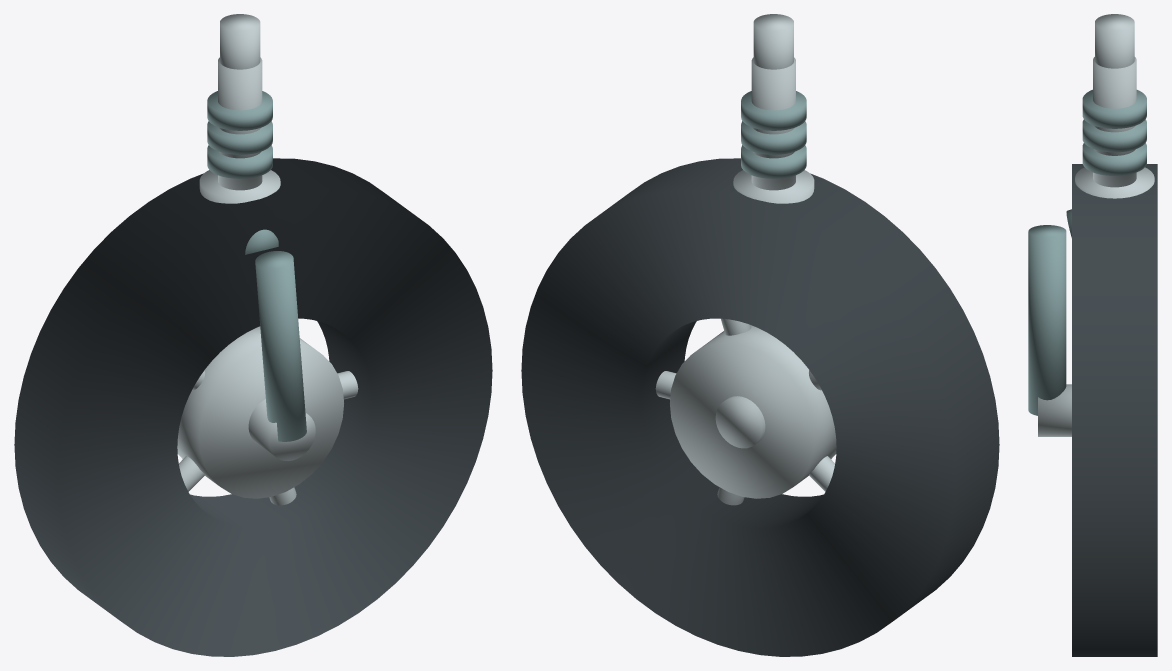
File: wheel-front-right-l.glb
3 renders of one model, left to right at view 1: azimuth 30°, elevation 25°; view 2: azimuth 150°, elevation 25°; view 3: azimuth 270°, elevation 25°, orthographic.
Parts seen in each view (by area): view 1: FR_tire.008, FR_sealed_hub.008, FR_fork.008, vertical_front_guide_1.008, vertical_front_spigot_1.008, FR_captive_axle.008, front_light_elastomer_1_2.008, FR_steering_bearing.008, front_light_elastomer_1_0.008, front_light_elastomer_1_1.008; view 2: FR_tire.008, FR_sealed_hub.008, vertical_front_guide_1.008, vertical_front_spigot_1.008, FR_captive_axle.008, front_light_elastomer_1_2.008, FR_steering_bearing.008, front_light_elastomer_1_0.008, front_light_elastomer_1_1.008; view 3: FR_tire.008, FR_fork.008, vertical_front_guide_1.008, vertical_front_spigot_1.008, front_light_elastomer_1_2.008, front_light_elastomer_1_1.008, front_light_elastomer_1_0.008, FR_captive_axle.008, FR_steering_bearing.008.
Part boxes in pixels (<box>): FR_tire.008: <box>14,158,492,656</box>; FR_sealed_hub.008: <box>177,326,343,498</box>; FR_fork.008: <box>255,251,306,441</box>; vertical_front_guide_1.008: <box>218,57,262,190</box>; vertical_front_spigot_1.008: <box>220,14,260,69</box>; FR_captive_axle.008: <box>248,399,315,460</box>; front_light_elastomer_1_2.008: <box>207,91,272,130</box>; FR_steering_bearing.008: <box>199,170,280,203</box>; front_light_elastomer_1_0.008: <box>207,145,272,178</box>; front_light_elastomer_1_1.008: <box>207,121,272,154</box>; FR_tire.008: <box>521,158,999,656</box>; FR_sealed_hub.008: <box>670,325,836,498</box>; vertical_front_guide_1.008: <box>751,57,795,190</box>; vertical_front_spigot_1.008: <box>753,14,793,69</box>; FR_captive_axle.008: <box>715,396,765,448</box>; front_light_elastomer_1_2.008: <box>741,91,806,130</box>; FR_steering_bearing.008: <box>733,170,814,203</box>; front_light_elastomer_1_0.008: <box>741,145,806,178</box>; front_light_elastomer_1_1.008: <box>741,121,806,154</box>; FR_tire.008: <box>1072,164,1157,656</box>; FR_fork.008: <box>1028,225,1066,415</box>; vertical_front_guide_1.008: <box>1093,57,1136,187</box>; vertical_front_spigot_1.008: <box>1095,14,1134,68</box>; front_light_elastomer_1_2.008: <box>1082,89,1146,128</box>; front_light_elastomer_1_1.008: <box>1082,119,1146,152</box>; front_light_elastomer_1_0.008: <box>1082,143,1146,175</box>; FR_captive_axle.008: <box>1038,384,1071,436</box>; FR_steering_bearing.008: <box>1075,167,1154,198</box>.
Size of the model in its own units: 0.26 by 0.352 by 0.068.
